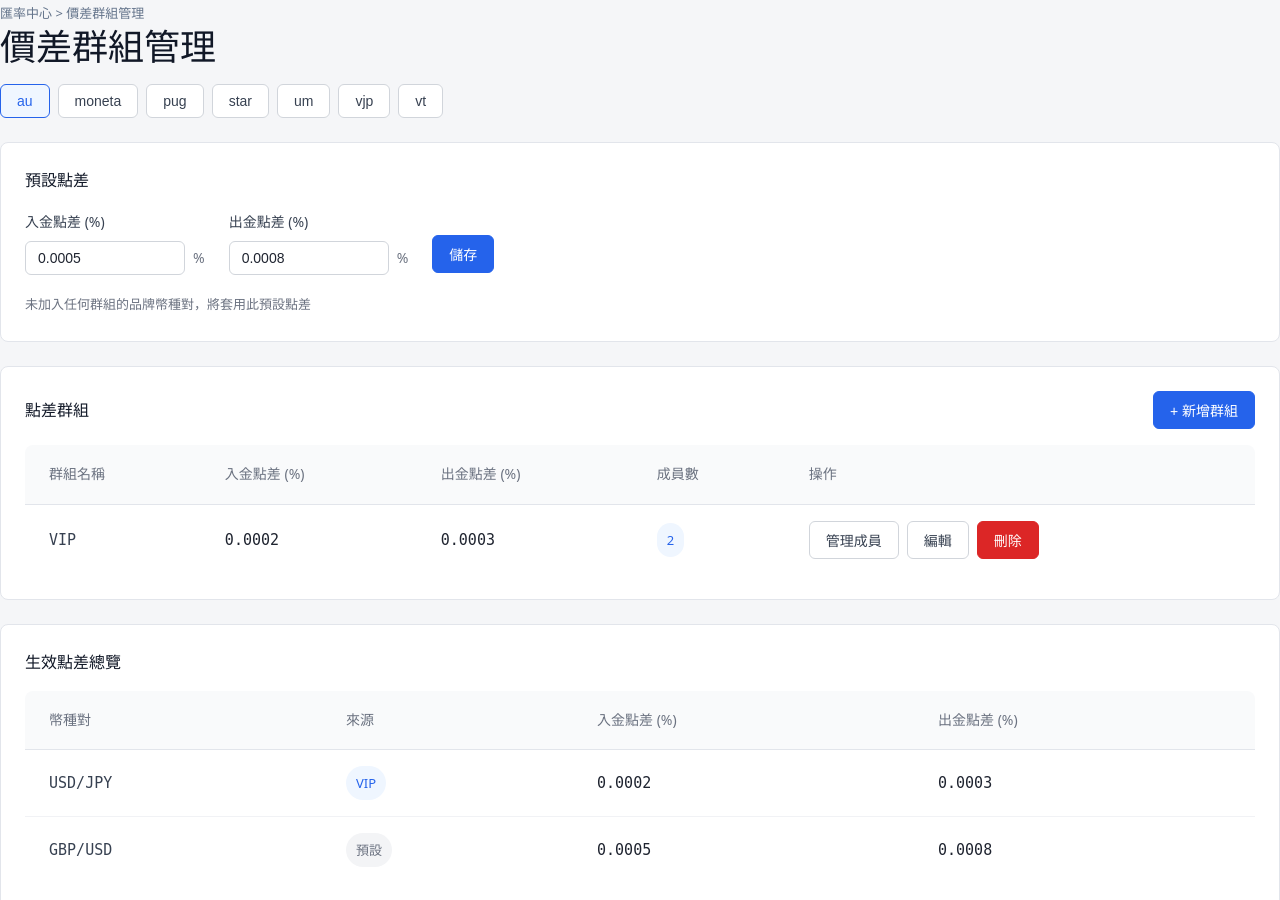
Test: SpreadGroupManagementPage › 新增群組 blocks a spread value over 100 with the inline error, but accepts 100 itself
Expected: the heading "價差群組管理" is shown, [0,22,216,71]
Expected: the text "VIP" below "群組名稱" is shown, [49,530,76,548]
Click the button "+ 新增群組" at (1204, 410), box [1153,392,1255,430]
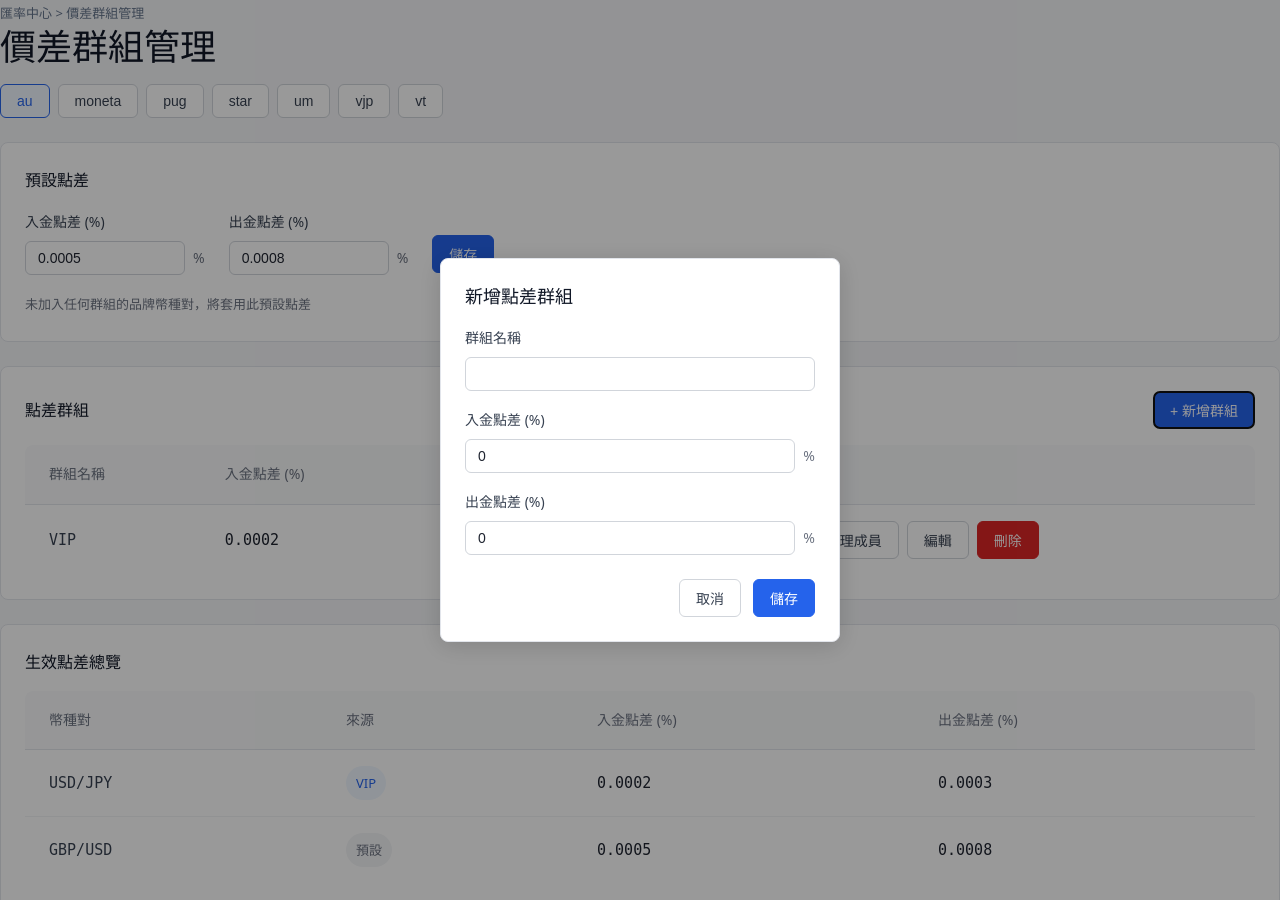
Type "STD" into the field labelled "群組名稱" at (640, 374), box [465,357,815,391]
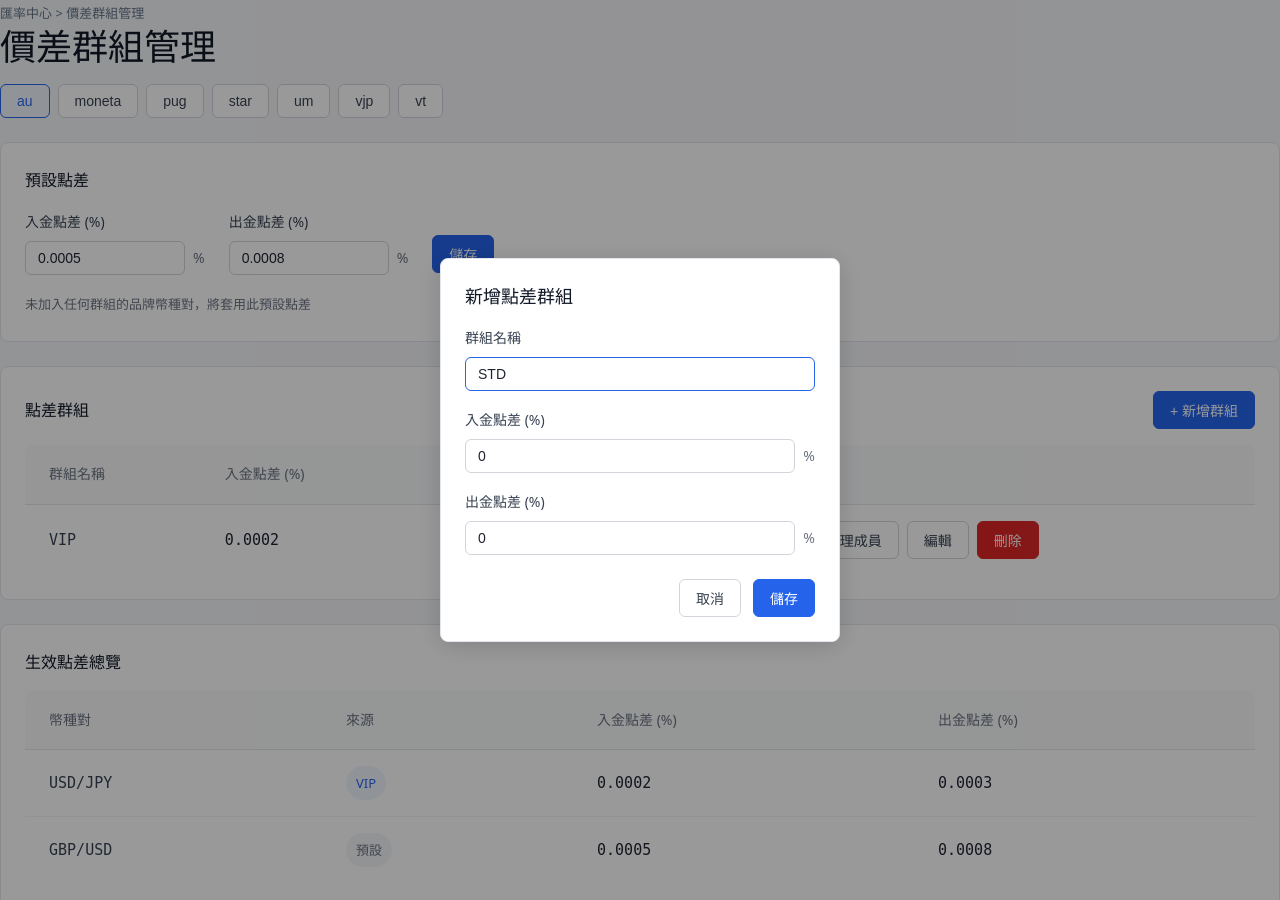
Replace the text in the number field labelled "入金點差 (%)" with "100.5" at (630, 456), box [465,439,795,473]
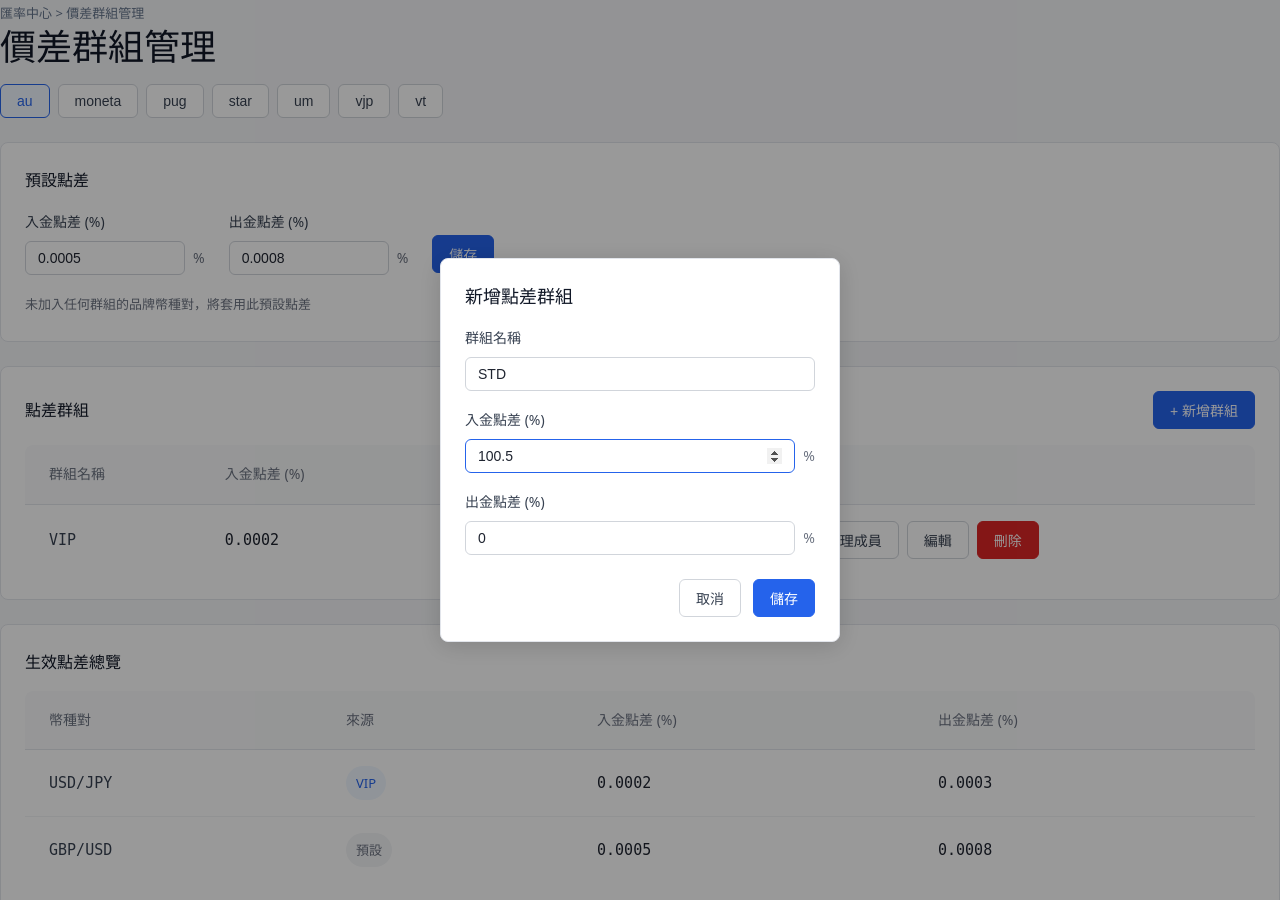
Click the button "儲存" at (784, 598), box [753,579,815,617]
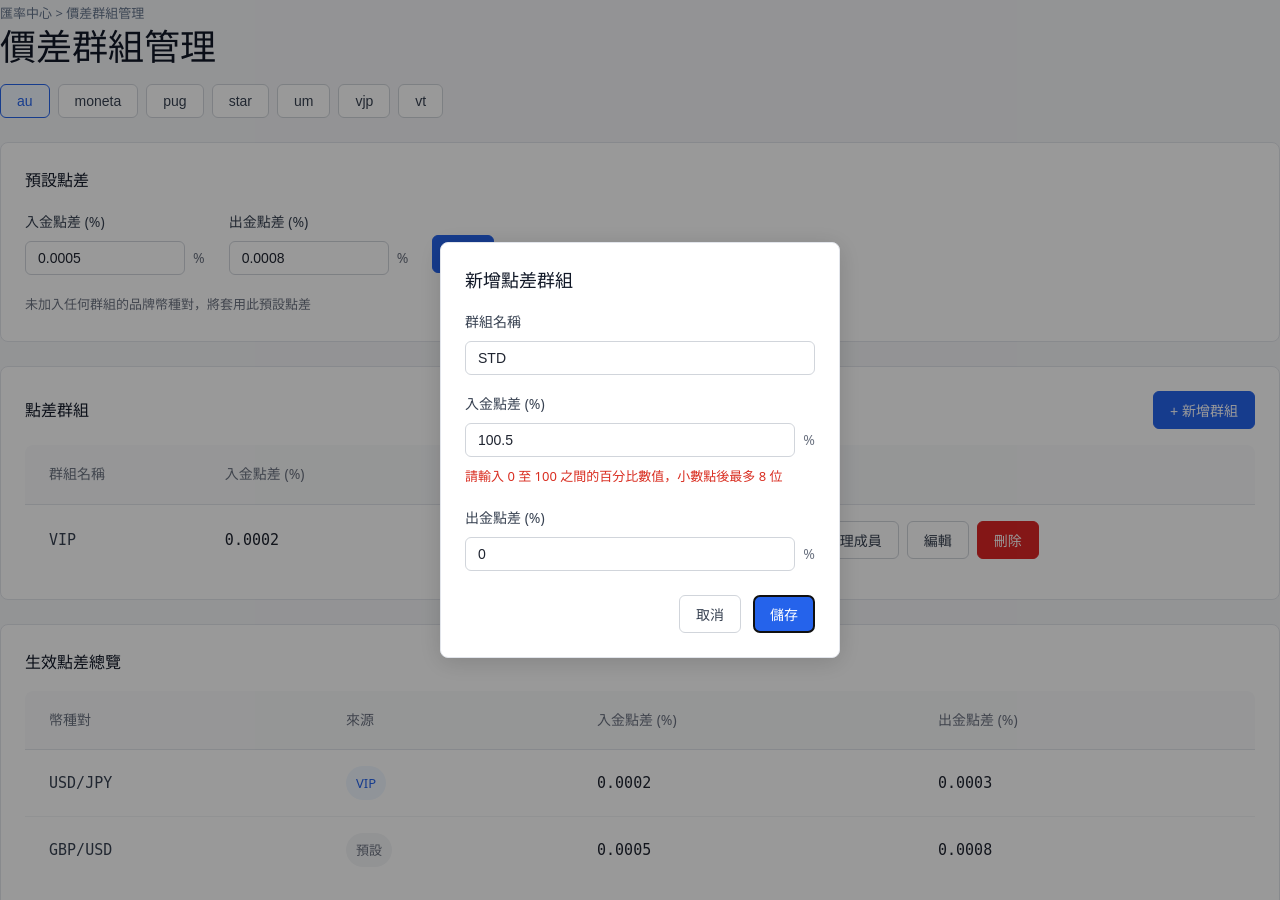
Now the text "請輸入 0 至 100 之間的百分比數值，小數點後最多 8 位" is shown, box [465,463,815,489]
Replace the text in the number field labelled "入金點差 (%)" with "100" at (630, 440), box [465,423,795,457]
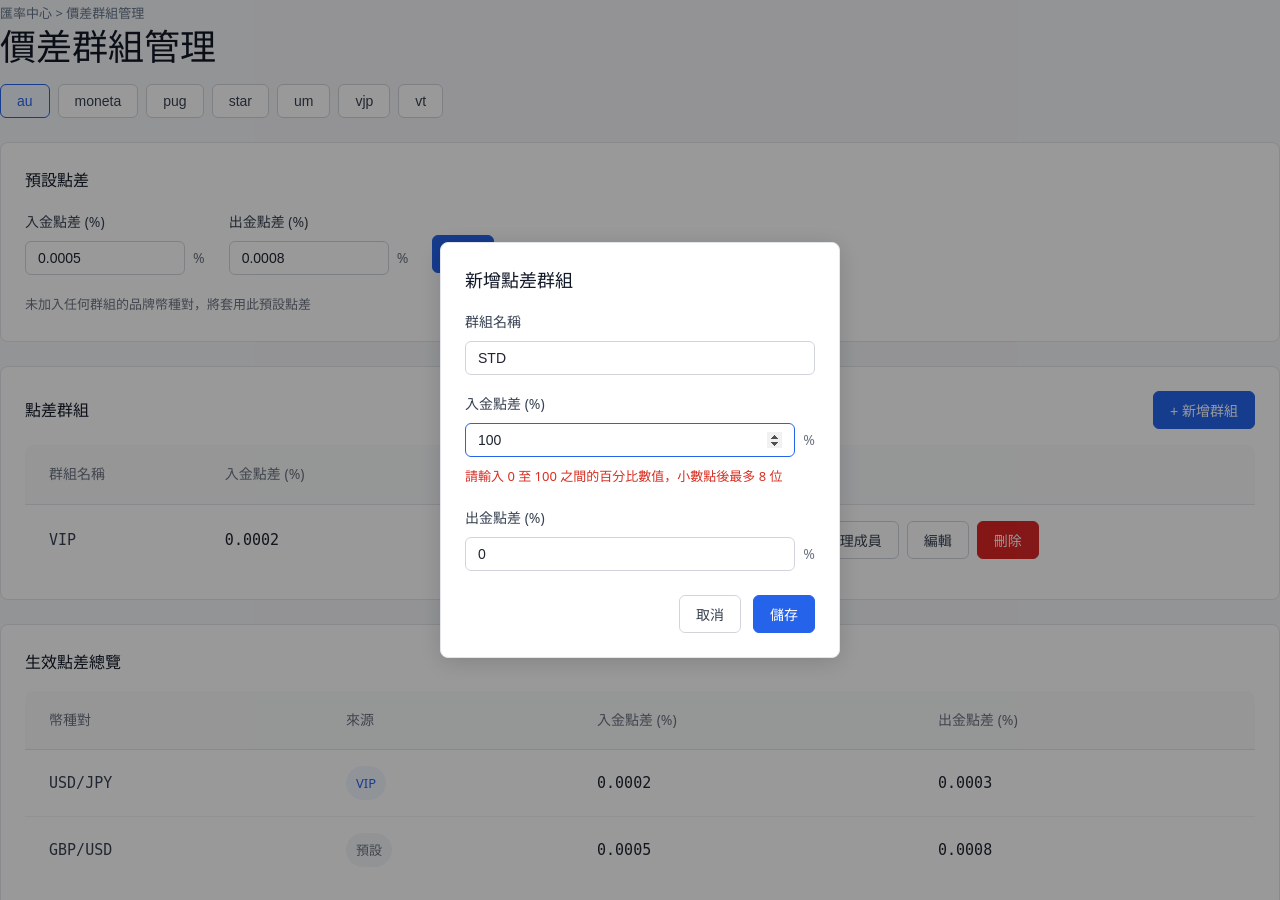
Click the button "儲存" at (784, 614), box [753,595,815,633]
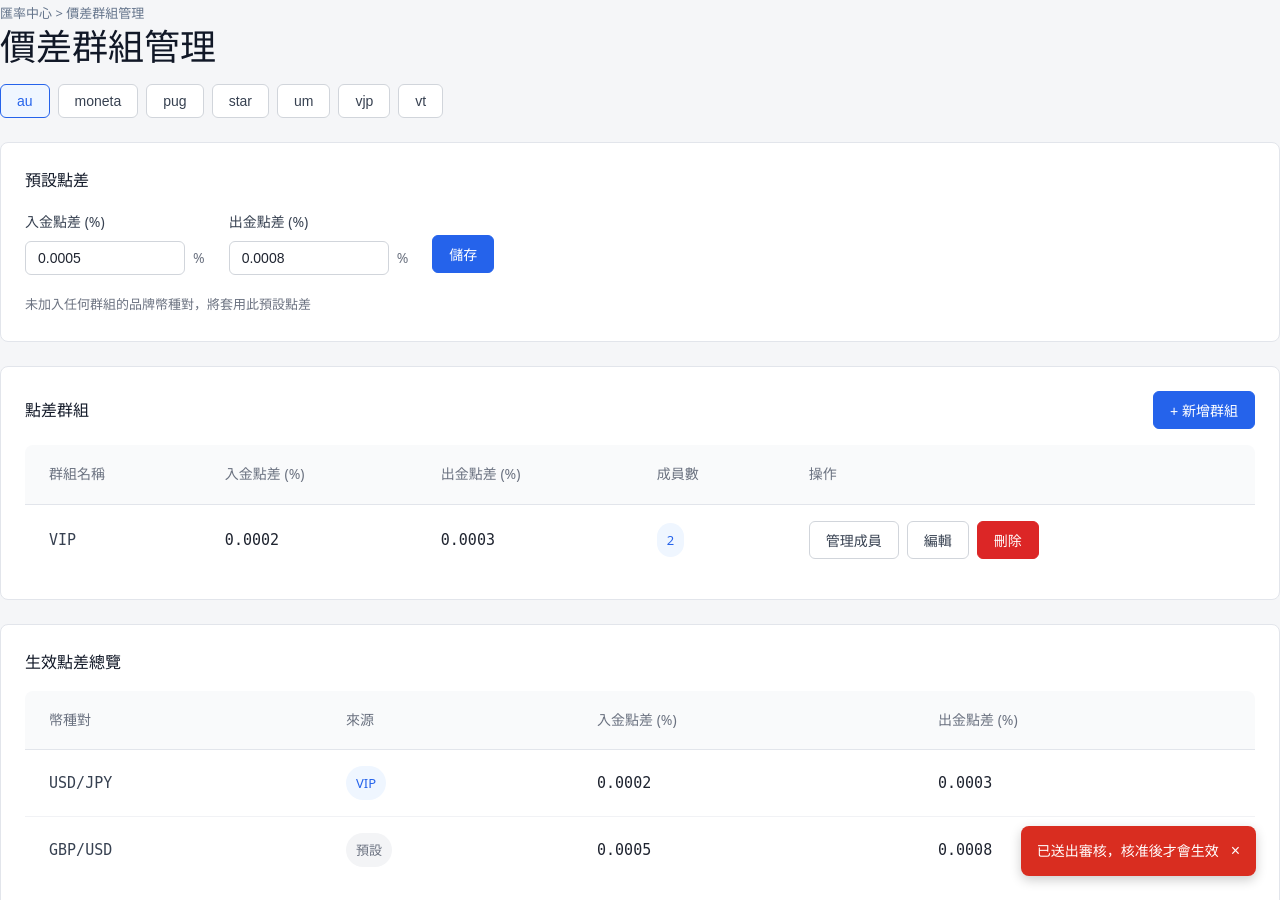
Now the text "已送出審核，核准後才會生效" is shown, box [1037,838,1219,864]
